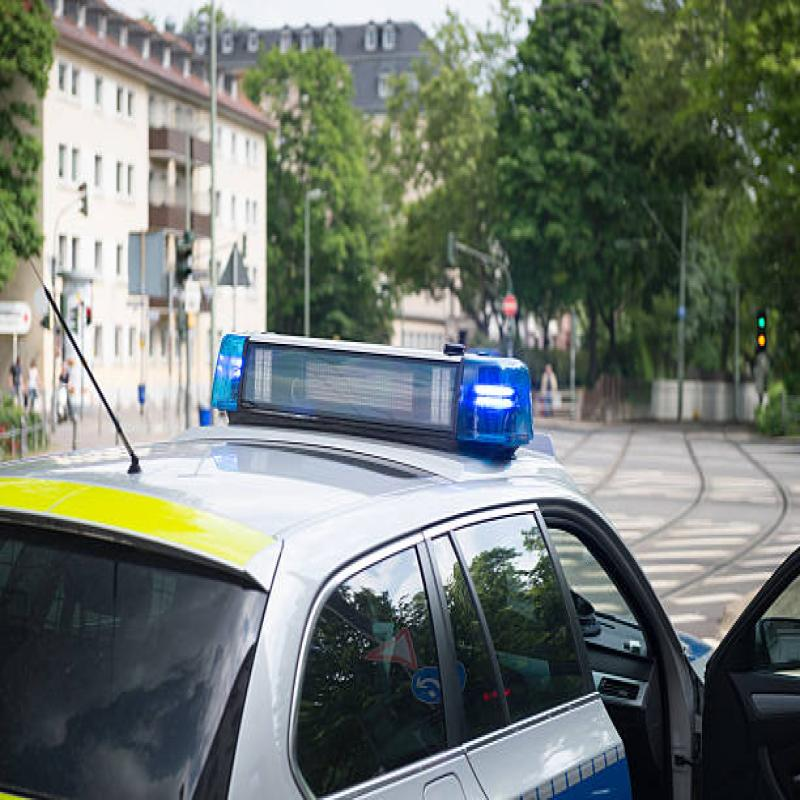AmbulanceSiren: (203, 298, 550, 475)
